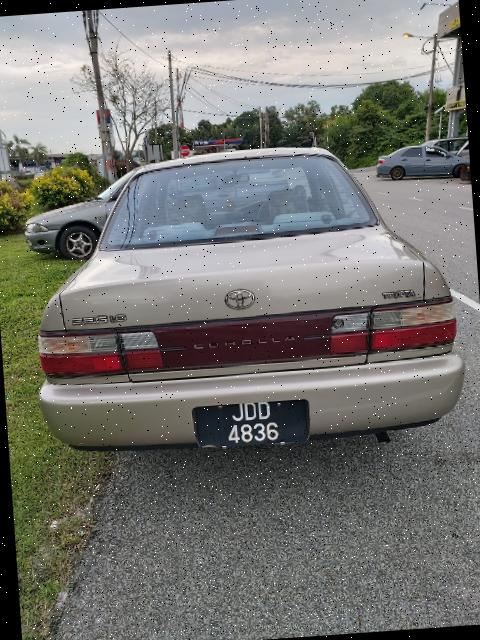License_Plate: (201, 391, 311, 460)
car: (7, 120, 468, 485)
